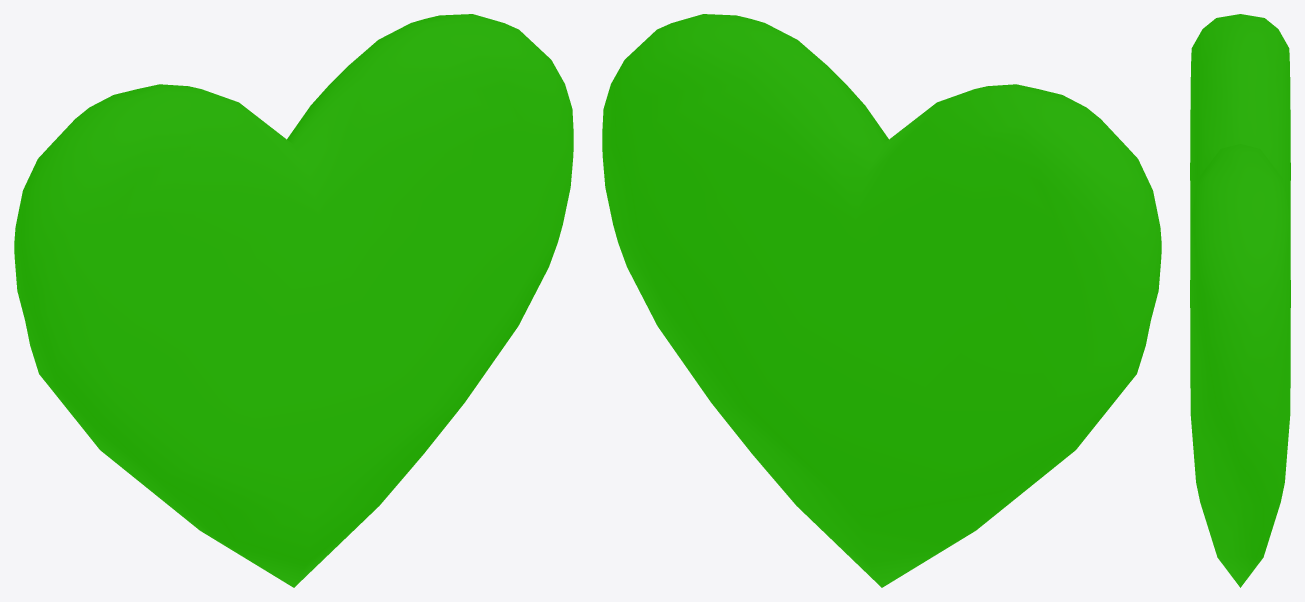
The model's file is heartKey.glb.
3 views of the same model, side by side, from view 1: azimuth 30°, elevation 25°; view 2: azimuth 150°, elevation 25°; view 3: azimuth 270°, elevation 25° (orthographic). The views are drawn at different scales.
Visible parts, largest first — view 1: heartKey; view 2: heartKey; view 3: heartKey.
Boxes of the visible parts, bbox=[...] form: heartKey: bbox=[14, 14, 573, 587]; heartKey: bbox=[602, 14, 1161, 587]; heartKey: bbox=[1190, 14, 1290, 587].
Bounding box in the file's own units: 0.3866 × 0.3598 × 0.0663.
